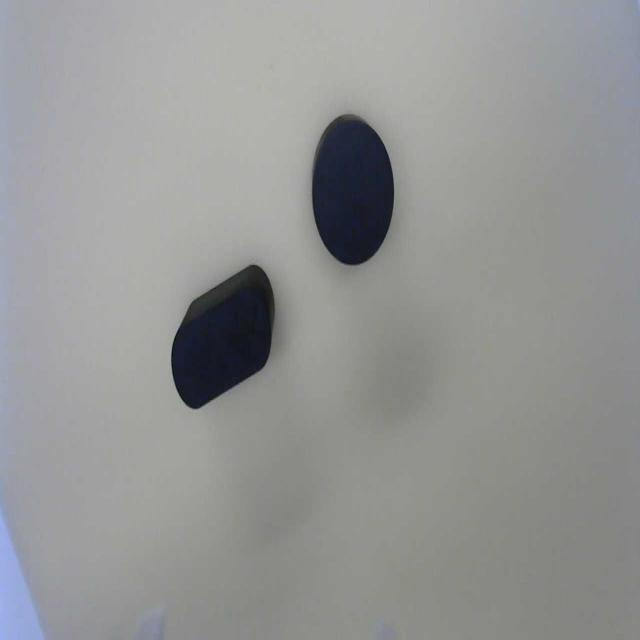circle: (312, 124, 394, 265)
oval: (166, 277, 278, 421)
